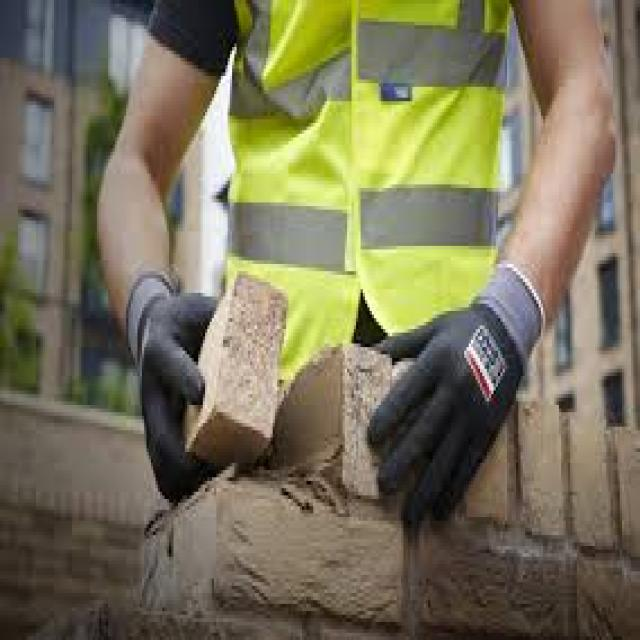gloved: (365, 260, 543, 532), (124, 264, 221, 503)
